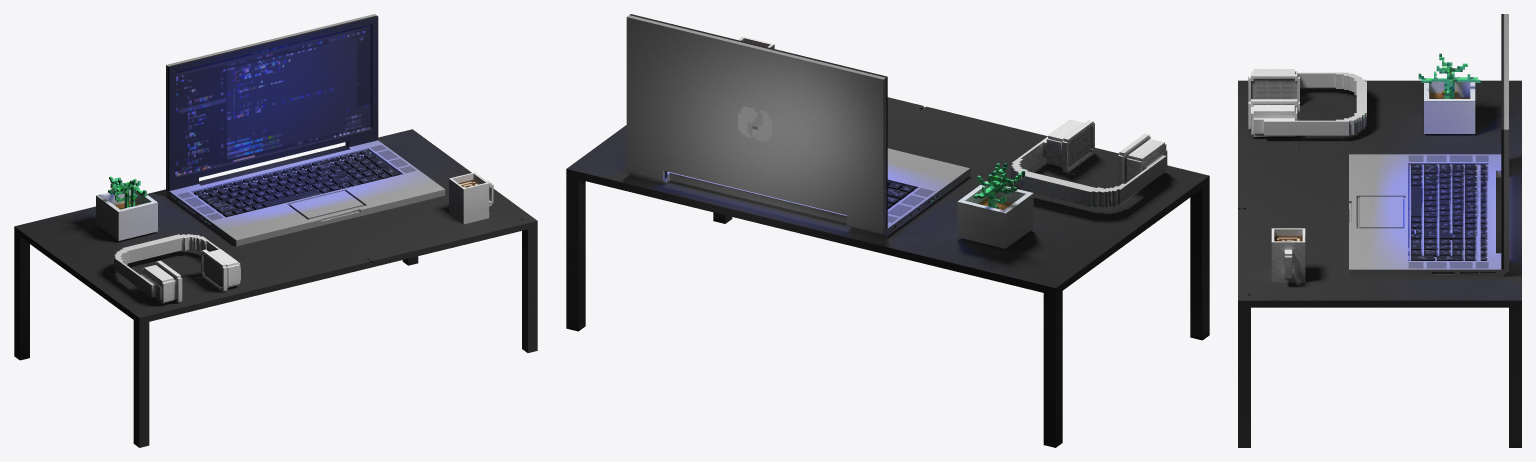
File: computer.glb
3 renders of one model, left to right at view 1: azimuth 30°, elevation 25°; view 2: azimuth 150°, elevation 25°; view 3: azimuth 270°, elevation 25°, orthographic. The views are drawn at different scales.
Visible parts, largest first — view 1: ObjObject; view 2: ObjObject; view 3: ObjObject.
Part boxes in pixels (<box>): ObjObject: <box>14,14,537,447</box>; ObjObject: <box>566,14,1209,447</box>; ObjObject: <box>1238,14,1521,447</box>.
Size of what is drawn, in the model's own units: 20.2 by 12.6 by 11.
Materials: 1 (1 with a texture image).
